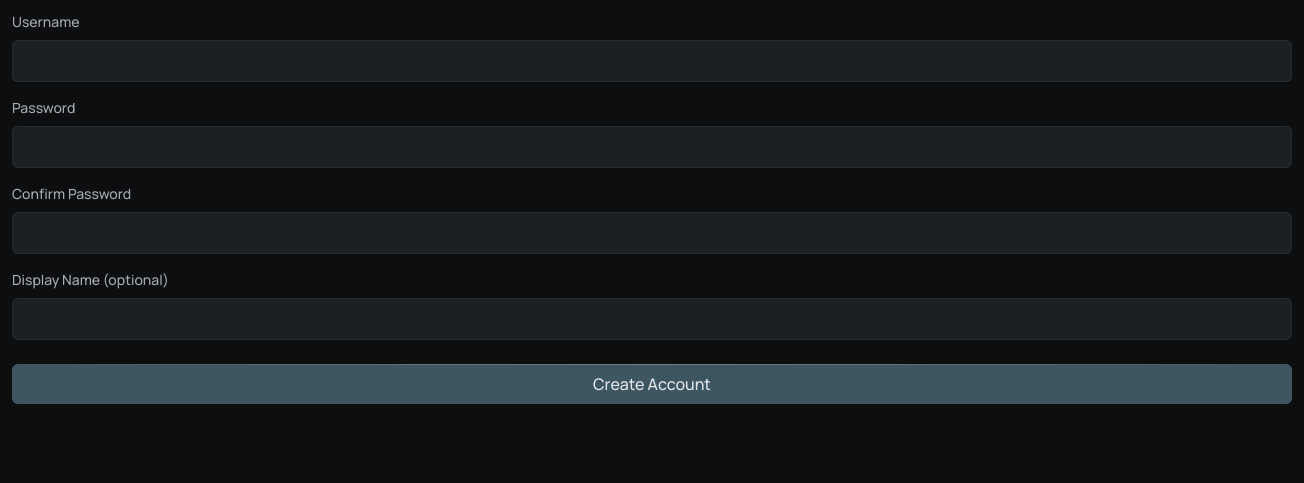
SetupForm › shows password mismatch error when passwords do not match
This screenshot has width=1304, height=483.
Type "newuser" into the field labelled "Username".
click(652, 61); type("newuser")  # box [12, 40, 1292, 82]
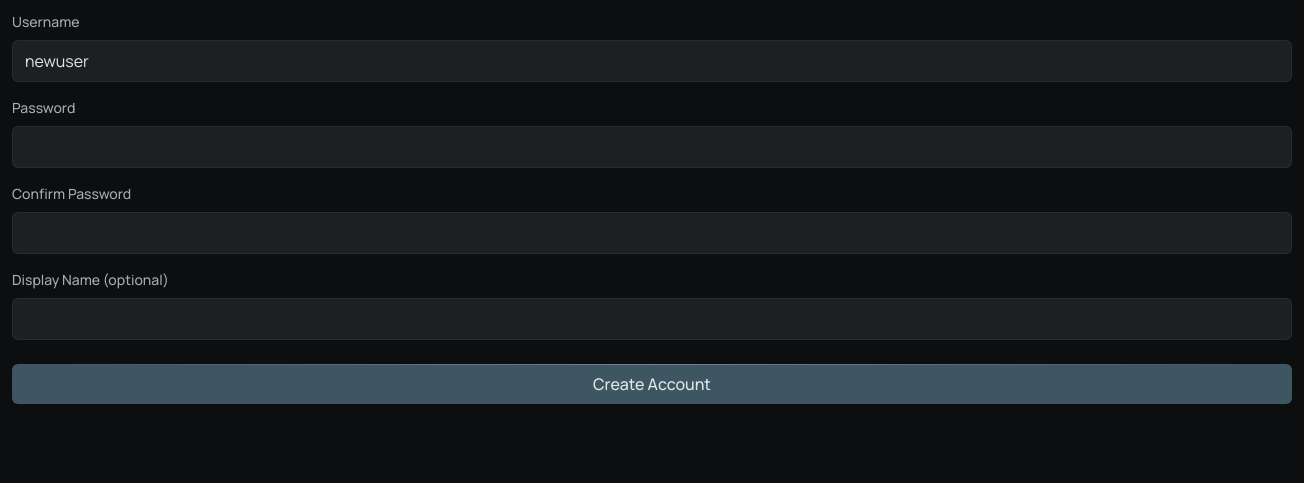
Type "pass123" into the password field labelled "Password".
click(652, 147); type("pass123")  # box [12, 126, 1292, 168]
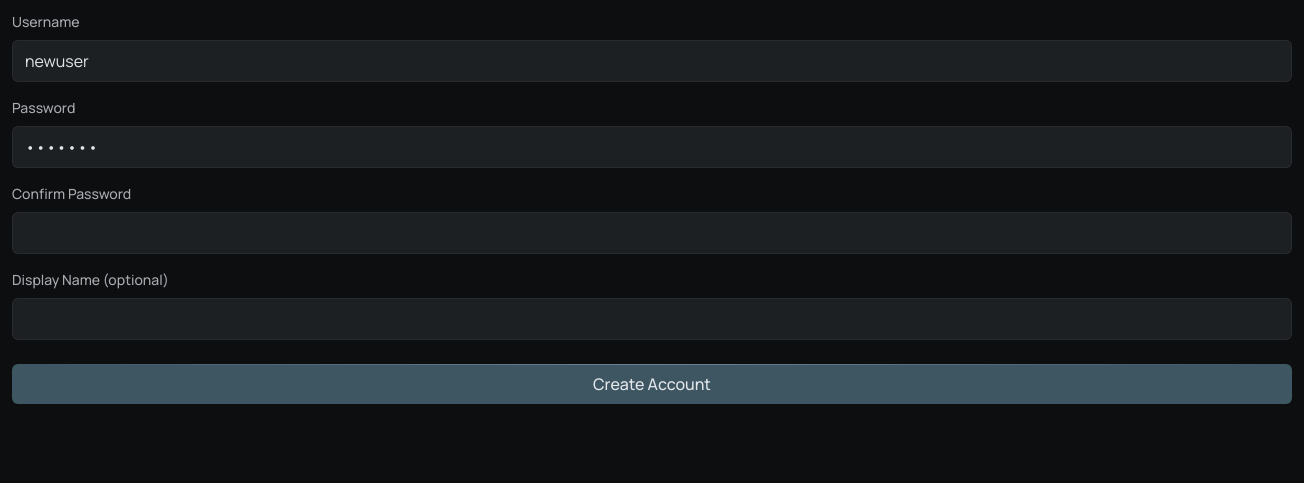
Type "different" into the password field labelled "Confirm Password".
click(652, 233); type("different")  # box [12, 212, 1292, 254]
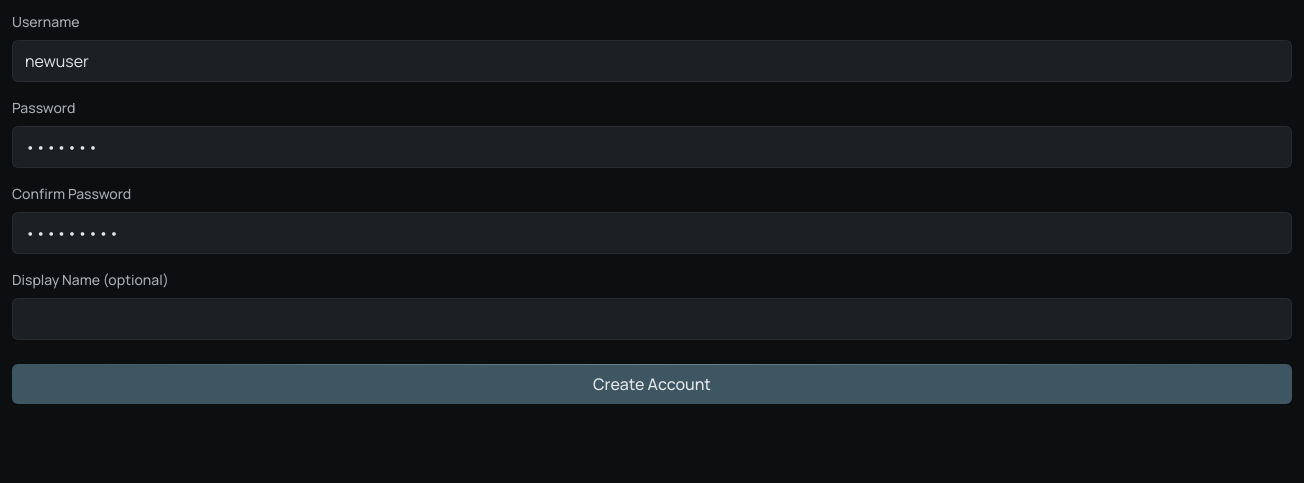
Click the button "Create Account".
click(652, 384)  # box [12, 364, 1292, 404]
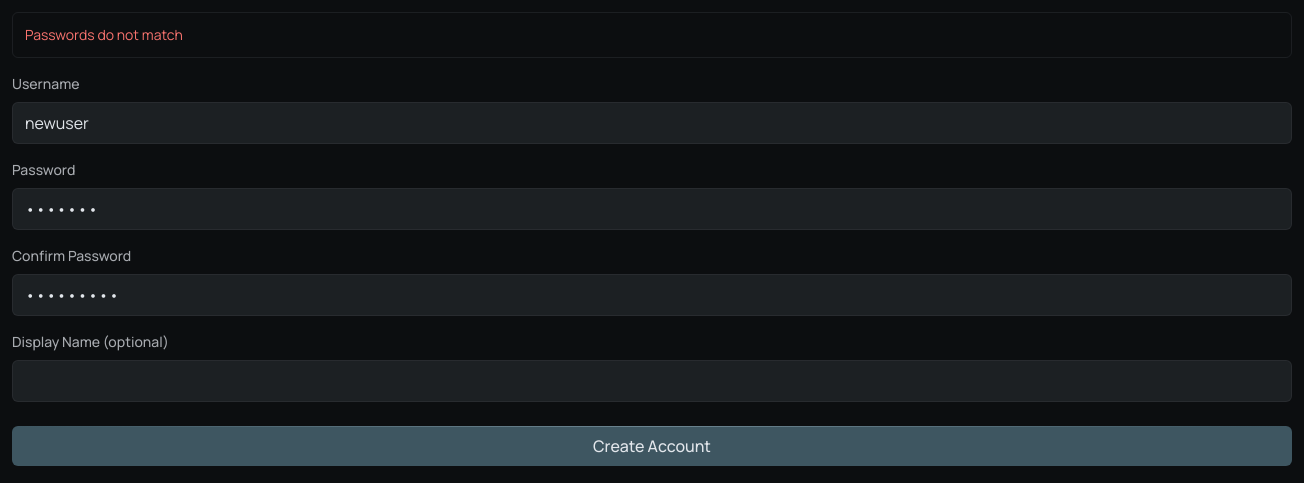
Expected: the text "Passwords do not match" is shown, [12, 12, 1292, 58]
